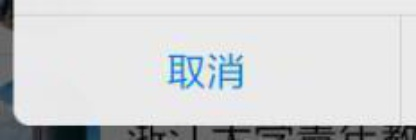Button: (1, 1, 415, 139)
